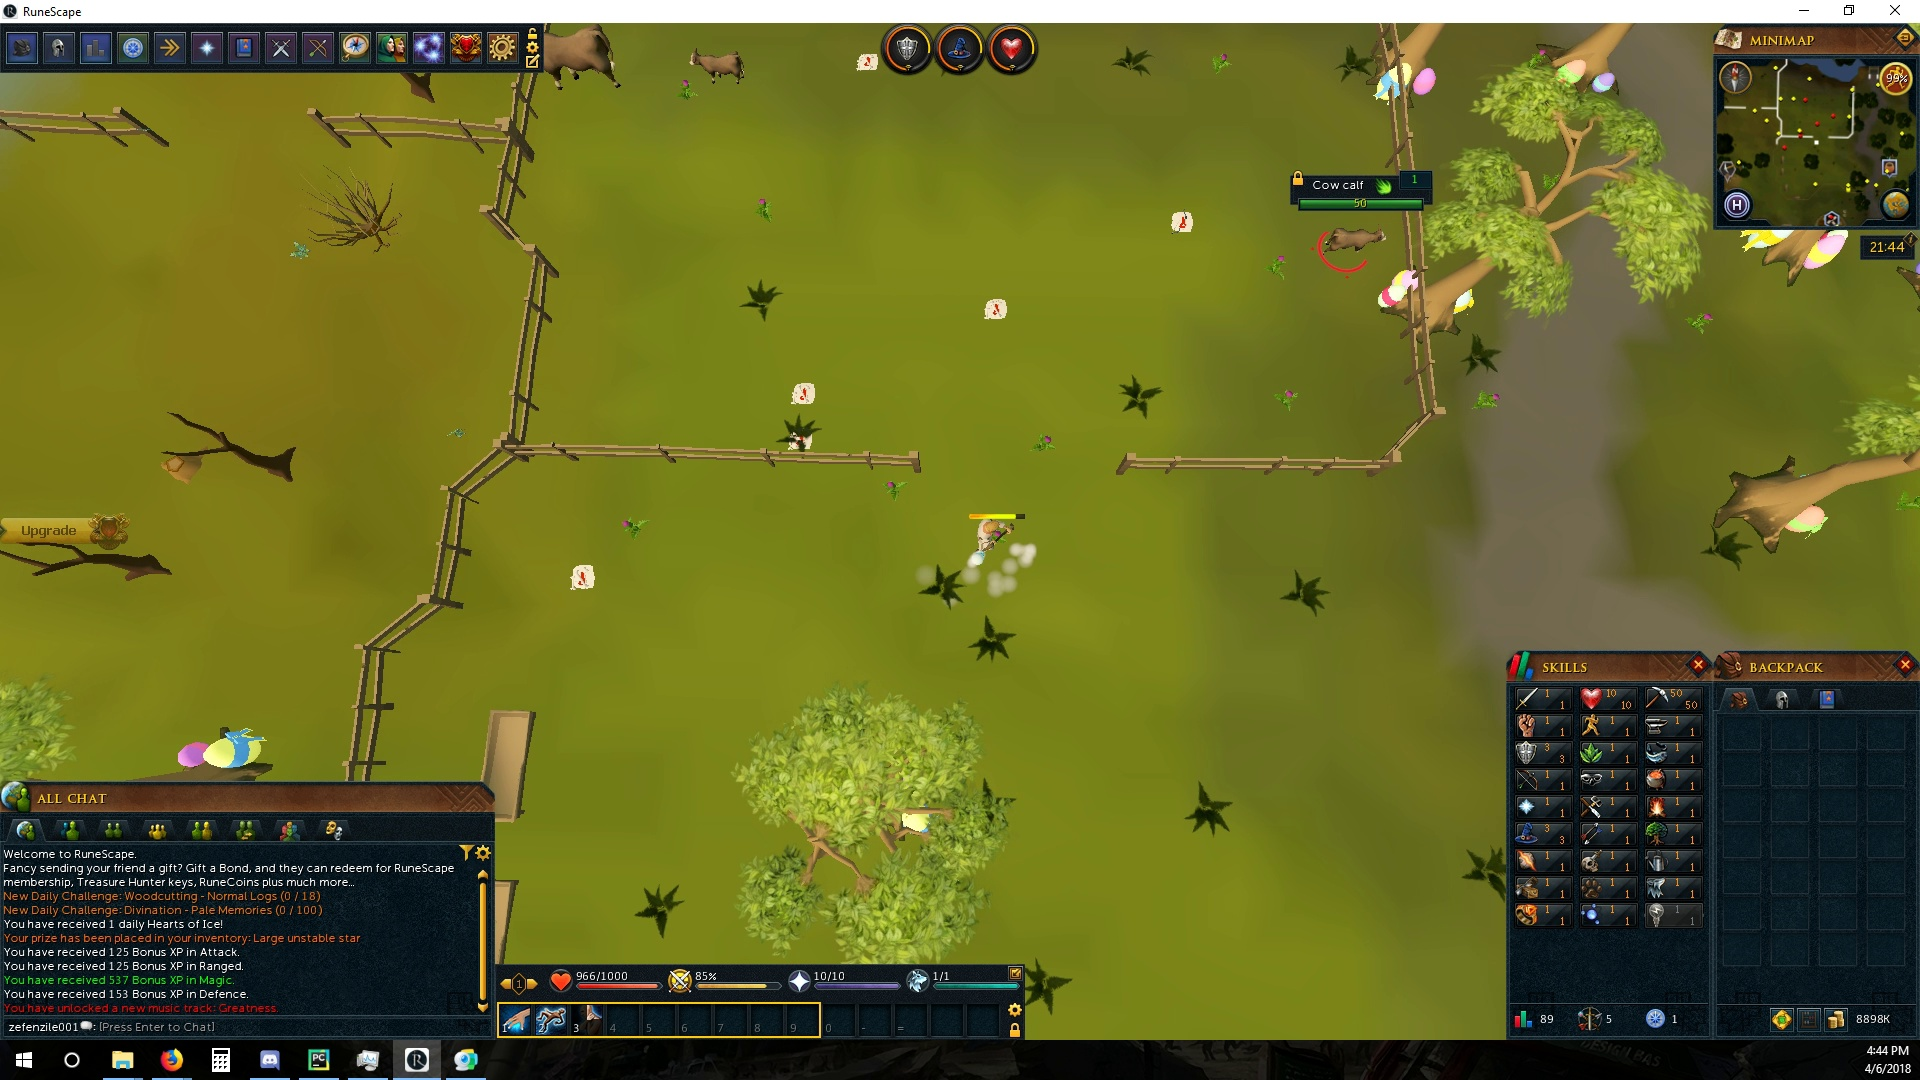calf: (1323, 225, 1390, 261), (688, 47, 749, 84)
cow: (541, 26, 626, 98)
cow_drop: (563, 563, 603, 593), (785, 378, 822, 410), (1168, 208, 1197, 236), (852, 51, 880, 75), (985, 297, 1011, 320)
